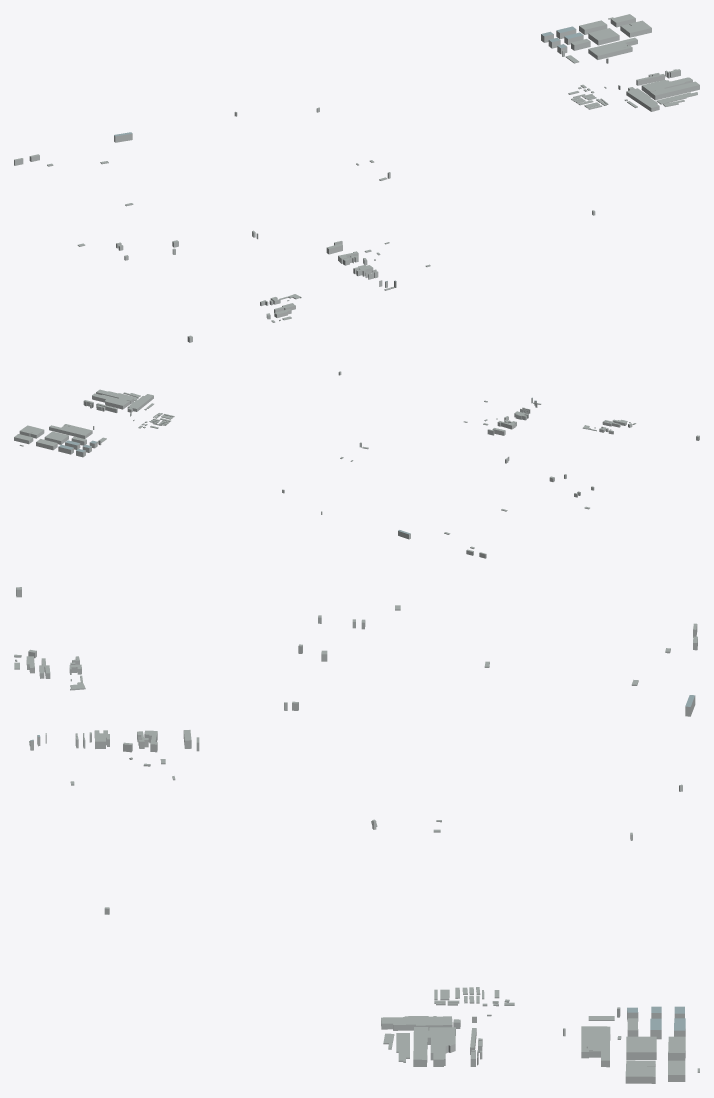
Rendered from far.glb.
The picture shows the model from 3 angles, top to bottom: view 1: azimuth 30°, elevation 25°; view 2: azimuth 150°, elevation 25°; view 3: azimuth 270°, elevation 25°; orthographic projection. The views are drawn at different scales.
Bounding box in the file's own units: 2121 × 19.8 × 1258.
